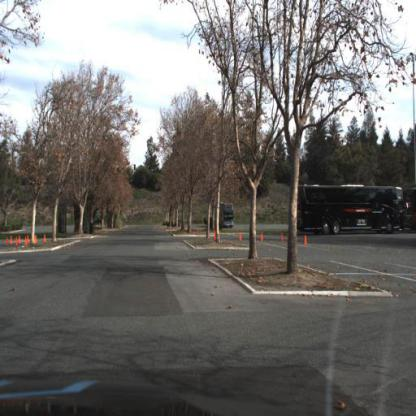truck: (291, 183, 407, 236), (216, 203, 234, 230)
